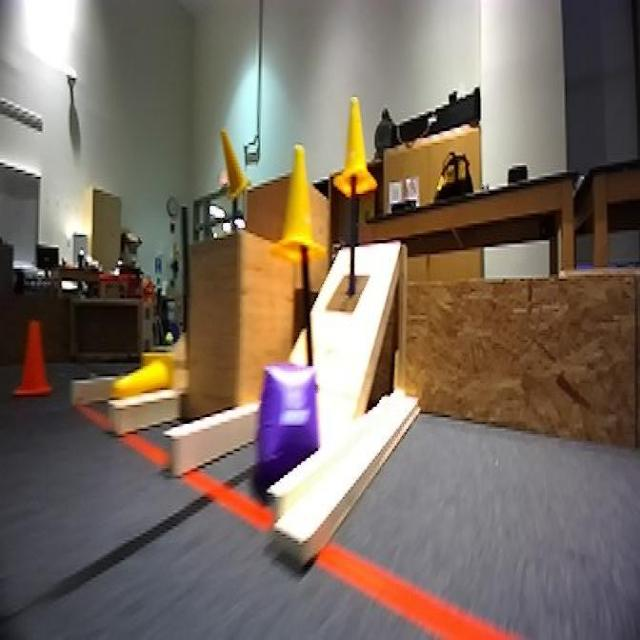frc_cone: (275, 145, 328, 260), (333, 94, 377, 199), (112, 351, 178, 405), (216, 121, 248, 201)
frc_cube: (249, 359, 321, 482)
